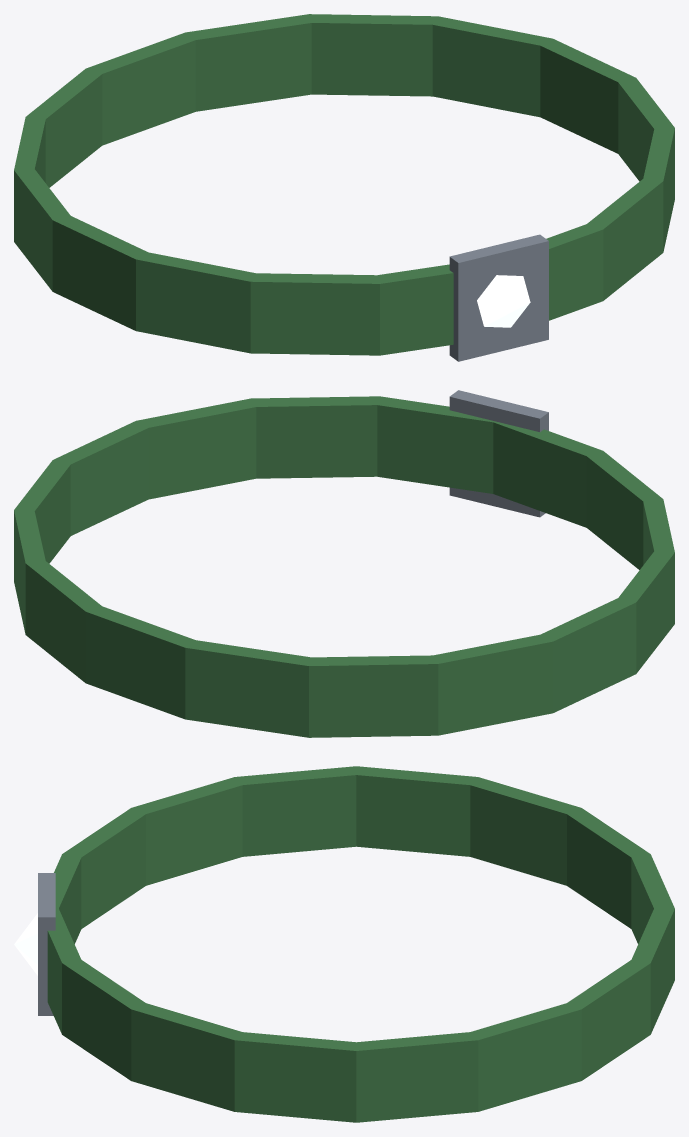
Rendered from armor_lord_head_uncommon_human.glb.
The picture shows the model from 3 angles, top to bottom: view 1: azimuth 30°, elevation 25°; view 2: azimuth 150°, elevation 25°; view 3: azimuth 270°, elevation 25°; orthographic projection.
Parts seen in each view (by area): view 1: armor_lord_head_uncommon_human__head; view 2: armor_lord_head_uncommon_human__head; view 3: armor_lord_head_uncommon_human__head.
Part boxes in pixels (x1,y1,x2,y2): armor_lord_head_uncommon_human__head: (14,14,674,361); armor_lord_head_uncommon_human__head: (14,390,674,737); armor_lord_head_uncommon_human__head: (14,766,674,1122).
Bounding box in the file's own units: 45.14 × 7.3 × 44.26.
